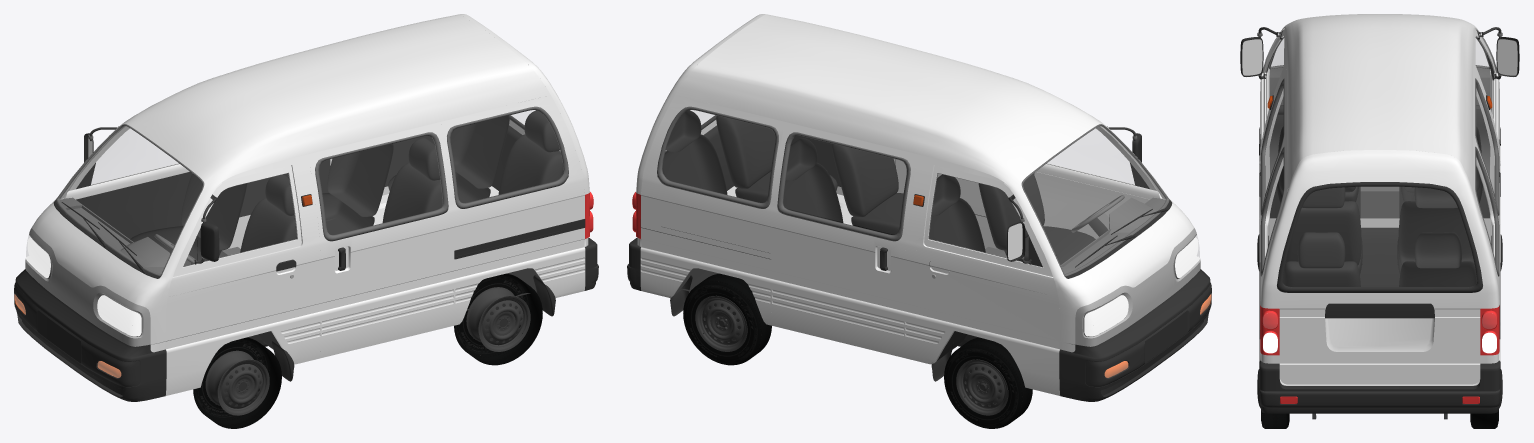
Rendered from chevrolet_damas-v1.glb.
The picture shows the model from 3 angles, left to right: view 1: azimuth 30°, elevation 25°; view 2: azimuth 150°, elevation 25°; view 3: azimuth 270°, elevation 25°; orthographic projection. The views are drawn at different scales.
Visible parts, largest first — view 1: Object_13, Object_12, Object_17, Object_15, Object_19, Object_14, Object_11, Object_22, Object_27, Object_21, Object_25, Object_18 (+2 smaller); view 2: Object_13, Object_12, Object_17, Object_15, Object_19, Object_11, Object_22, Object_21, Object_18, Object_25, Object_23, Object_27 (+3 smaller); view 3: Object_13, Object_12, Object_17, Object_15, Object_19, Object_22, Object_14, Object_18, Object_2, Object_3, Object_23, Object_11 (+2 smaller).
Boxes of the visible parts, x1=… form: Object_13: x1=32, y1=14, x2=588, y2=364; Object_12: x1=63, y1=14, x2=589, y2=395; Object_17: x1=26, y1=110, x2=562, y2=335; Object_15: x1=130, y1=110, x2=563, y2=264; Object_19: x1=14, y1=115, x2=598, y2=401; Object_14: x1=76, y1=125, x2=563, y2=238; Object_11: x1=193, y1=273, x2=542, y2=428; Object_22: x1=29, y1=106, x2=568, y2=336; Object_27: x1=205, y1=197, x2=530, y2=415; Object_21: x1=25, y1=228, x2=293, y2=346; Object_25: x1=221, y1=300, x2=523, y2=408; Object_18: x1=60, y1=197, x2=240, y2=344; Object_13: x1=637, y1=14, x2=1193, y2=364; Object_12: x1=636, y1=14, x2=1162, y2=395; Object_17: x1=663, y1=110, x2=1199, y2=335; Object_15: x1=662, y1=110, x2=1095, y2=264; Object_19: x1=627, y1=115, x2=1211, y2=401; Object_11: x1=683, y1=273, x2=1032, y2=428; Object_22: x1=657, y1=106, x2=1196, y2=336; Object_21: x1=932, y1=228, x2=1200, y2=346; Object_18: x1=985, y1=195, x2=1165, y2=273; Object_25: x1=702, y1=300, x2=1004, y2=408; Object_23: x1=1084, y1=237, x2=1210, y2=377; Object_27: x1=695, y1=197, x2=1012, y2=415; Object_13: x1=1259, y1=14, x2=1500, y2=385; Object_12: x1=1259, y1=29, x2=1500, y2=384; Object_17: x1=1264, y1=38, x2=1495, y2=286; Object_15: x1=1277, y1=126, x2=1482, y2=286; Object_19: x1=1240, y1=37, x2=1519, y2=413; Object_22: x1=1257, y1=32, x2=1502, y2=276; Object_14: x1=1265, y1=166, x2=1494, y2=286; Object_18: x1=1269, y1=67, x2=1490, y2=227; Object_2: x1=1242, y1=39, x2=1517, y2=75; Object_3: x1=1260, y1=305, x2=1499, y2=403; Object_23: x1=1263, y1=312, x2=1496, y2=353; Object_11: x1=1261, y1=409, x2=1498, y2=428.
Size of what is drawn, in the model's own units: 8.64 by 4.79 by 4.04.
Materials: 15 (1 with a texture image).
